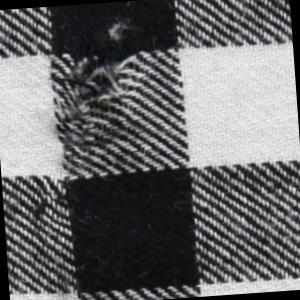Damage: (48, 48, 151, 157)
Wrinkle: (27, 168, 93, 233)
